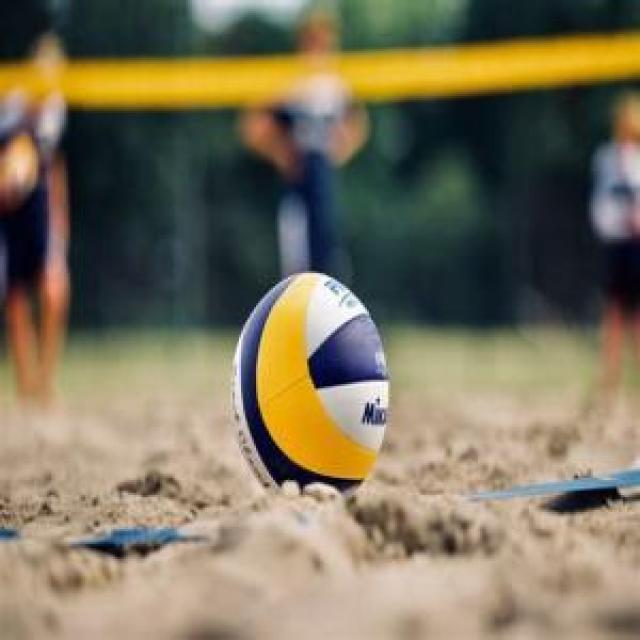volleyball: (230, 271, 390, 495)
